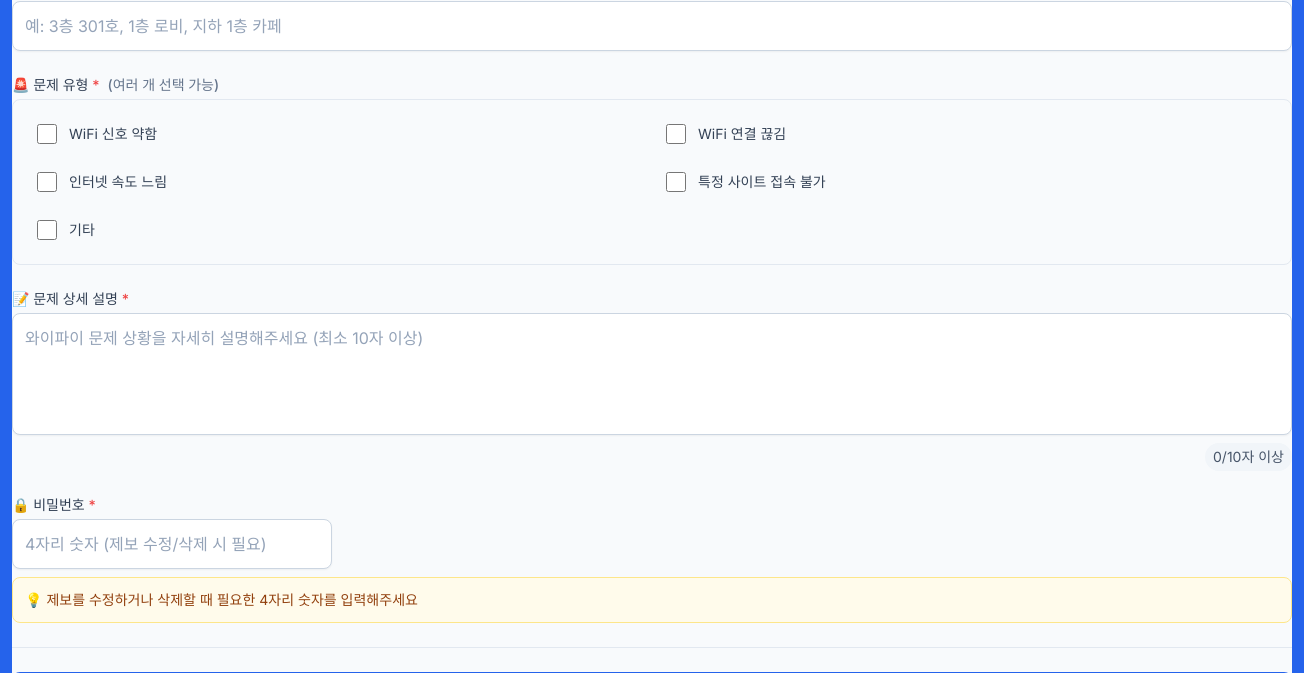
Test: ReportForm › validates password format
(page scrolled)
Step 1. Type "abc" into the password field labelled "🔒 비밀번호 *" → (172, 544), box [12,519,332,569]
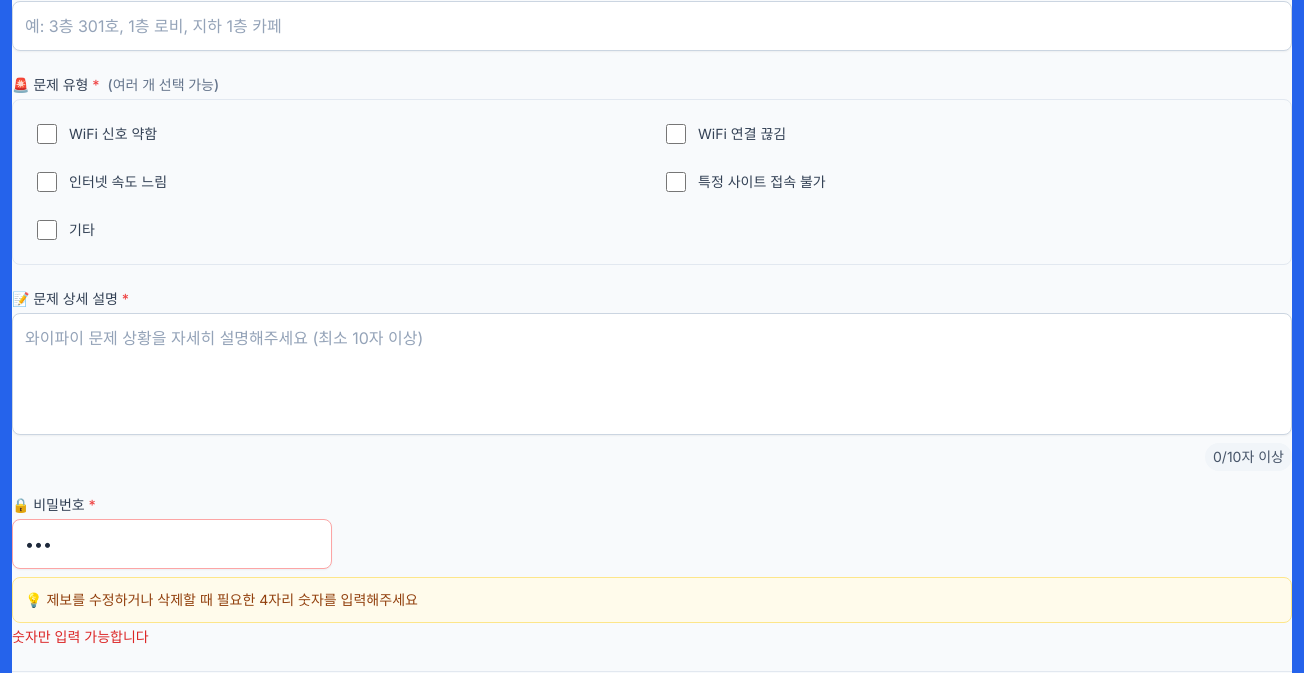
Now the text "숫자만 입력 가능합니다" is shown, box [12,628,149,645]
